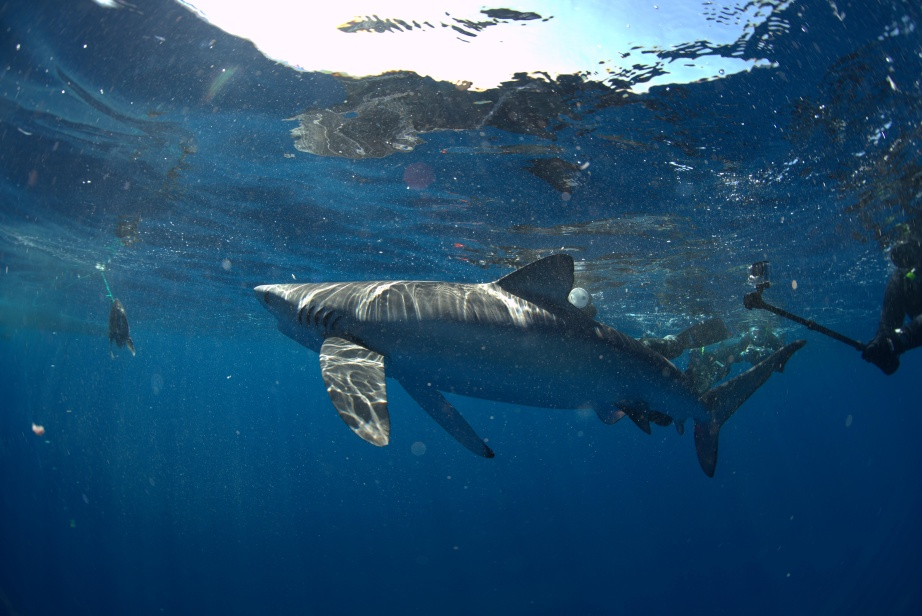Azul: (245, 224, 812, 481)
